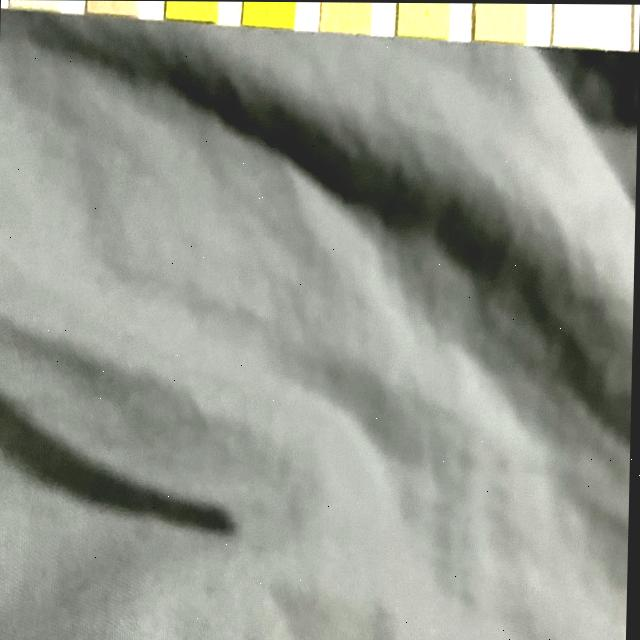Blood: (245, 1, 296, 25)
Nitrite: (554, 3, 605, 46)
Protein: (398, 2, 448, 34)
SpGravity: (167, 1, 219, 17)
Urobilinogen: (475, 3, 528, 39)
pH: (322, 2, 373, 30)
